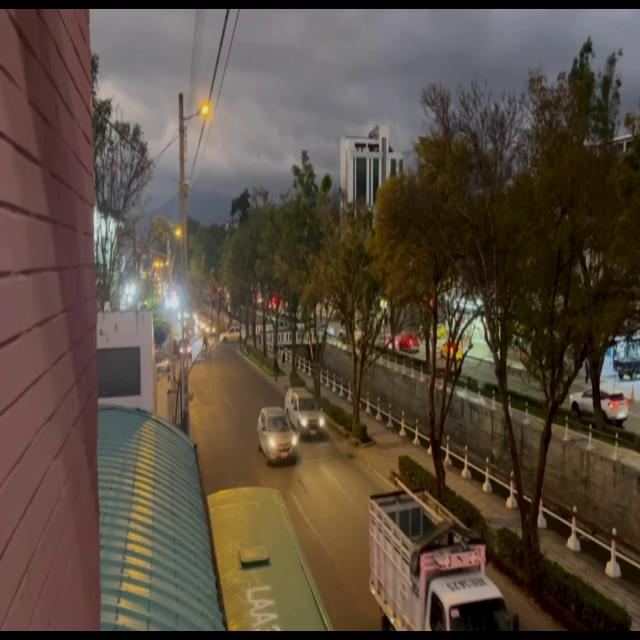CMT: (286, 388, 322, 438)
SUV: (259, 411, 294, 466)
TRUCK: (372, 495, 508, 640)
